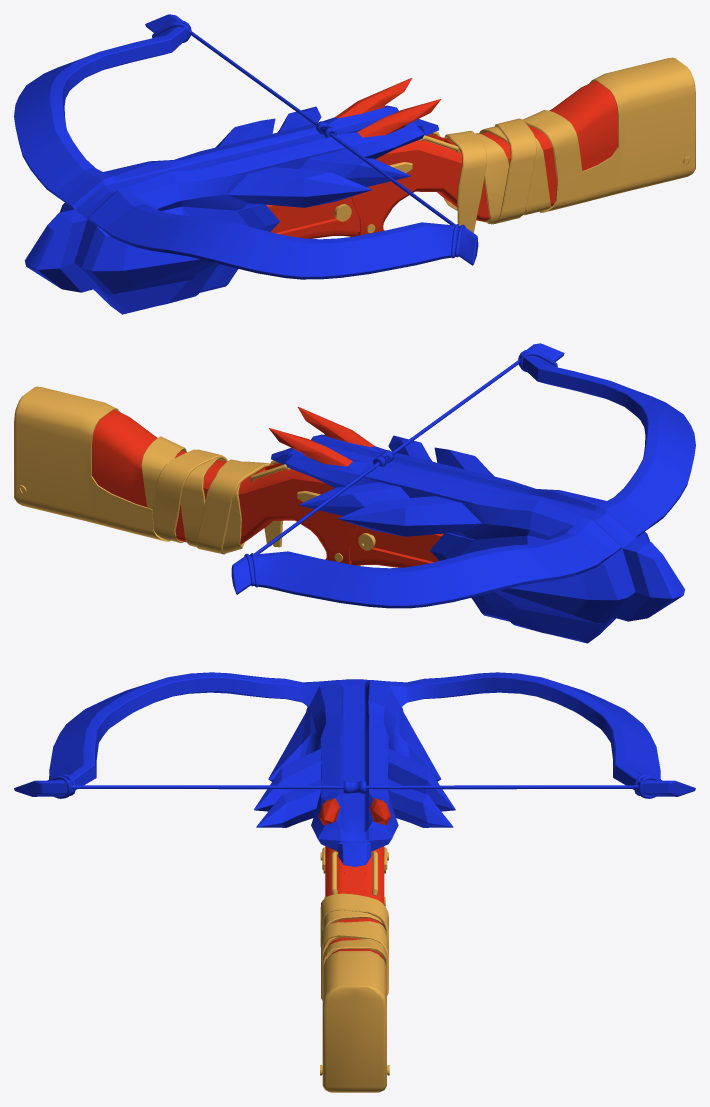
The model's file is crossbowAnim_low.fbx.
3 views of the same model, one above another, from view 1: azimuth 30°, elevation 25°; view 2: azimuth 150°, elevation 25°; view 3: azimuth 270°, elevation 25° (orthographic). The views are drawn at different scales.
Visible parts, largest first — view 1: CrystalBod.005, Complements.002, CrossbowBod.014; view 2: CrystalBod.005, Complements.002, CrossbowBod.014; view 3: CrystalBod.005, Complements.002, CrossbowBod.014.
Part boxes in pixels (x1,y1,x2,y2): CrystalBod.005: [14, 14, 478, 314]; Complements.002: [334, 57, 695, 233]; CrossbowBod.014: [238, 78, 617, 269]; CrystalBod.005: [231, 343, 695, 643]; Complements.002: [14, 386, 375, 562]; CrossbowBod.014: [92, 407, 471, 598]; CrystalBod.005: [14, 672, 695, 866]; Complements.002: [320, 847, 389, 1092]; CrossbowBod.014: [318, 798, 390, 960].
Bounding box in the file's own units: 2347 × 510 × 2031.
